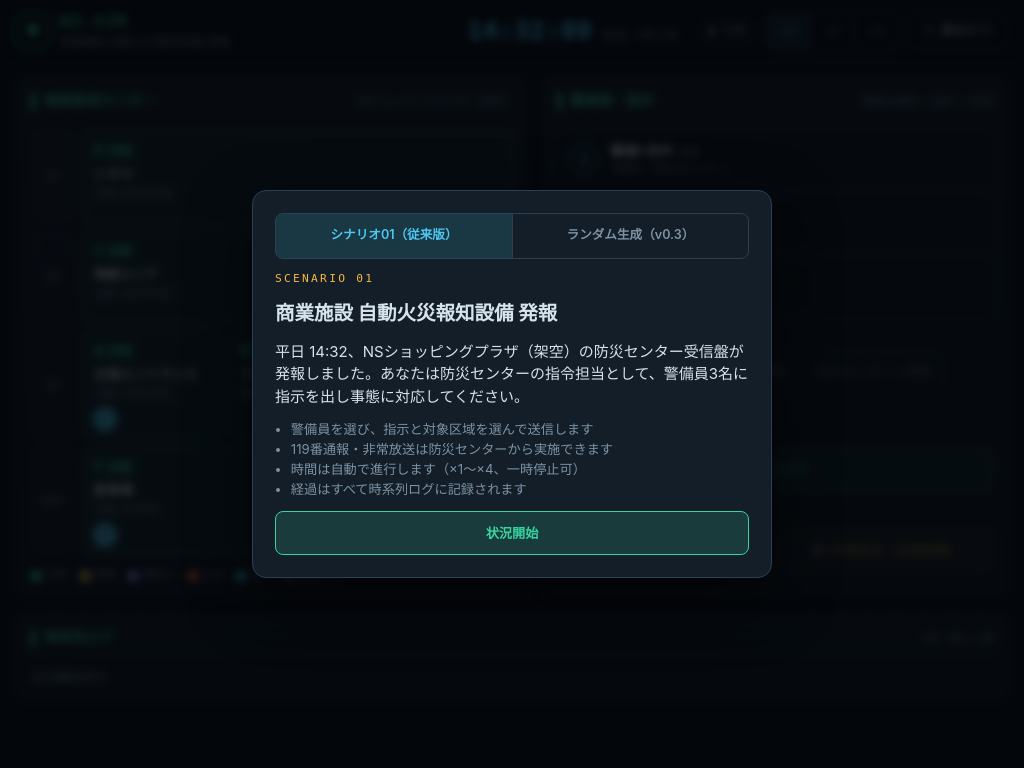
Scenario: v0.3 画面 › 開始画面はシナリオ01が既定で、ランダム生成に切り替えられる
Click the button "ランダム生成（v0.3）": [630, 236] box [512, 214, 748, 258]
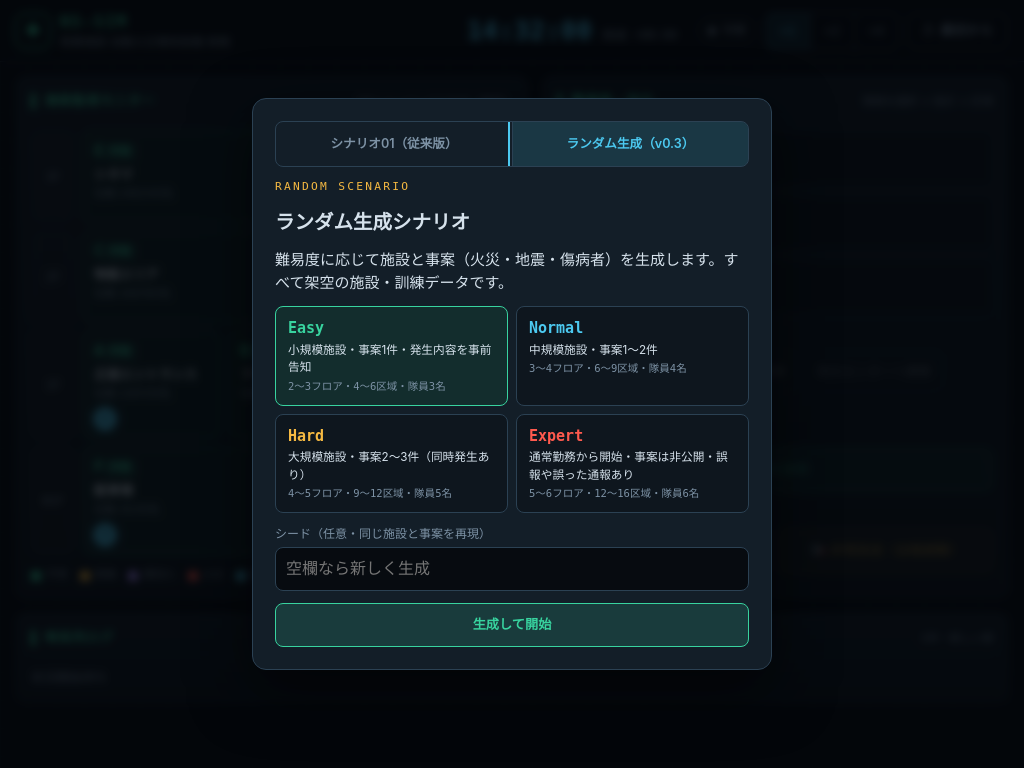
In the field labelled "シード（任意・同じ施設と事案を再現）": [512, 569] box [275, 547, 749, 591], type "abc"
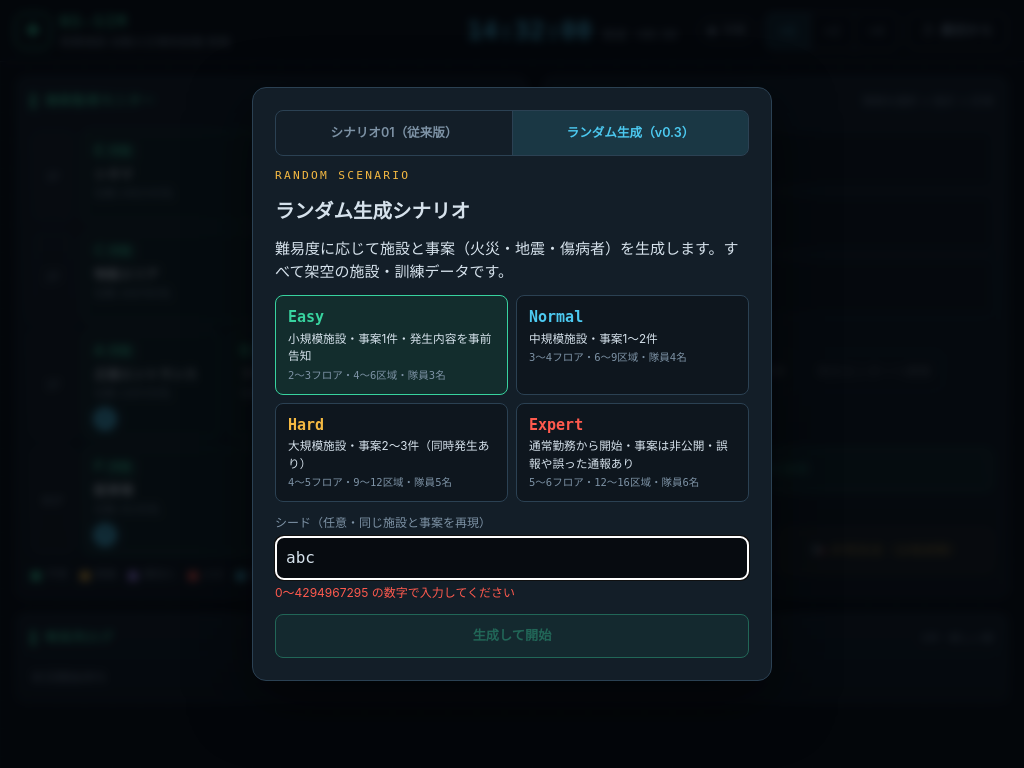
Expected: the button "生成して開始" is disabled, [275, 614, 749, 658]
